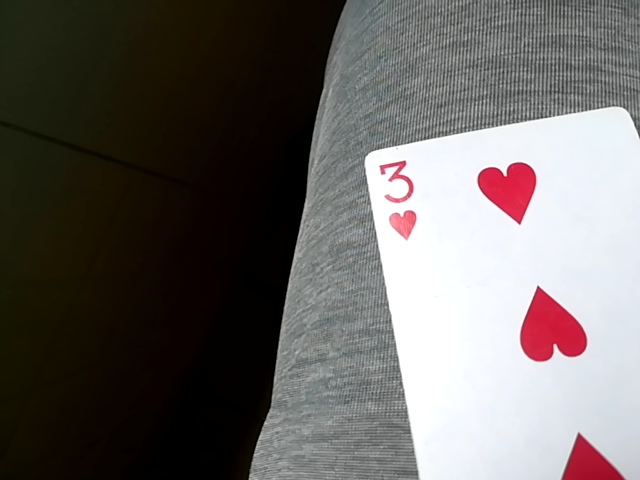hx 3: (364, 100, 640, 479)
